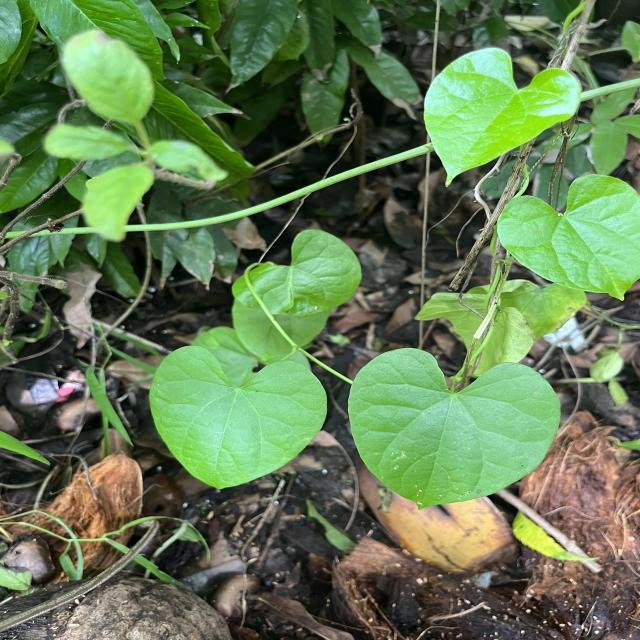Tinospora cordifolia: (344, 346, 564, 512), (148, 344, 328, 492), (422, 44, 584, 190), (495, 172, 640, 304)
